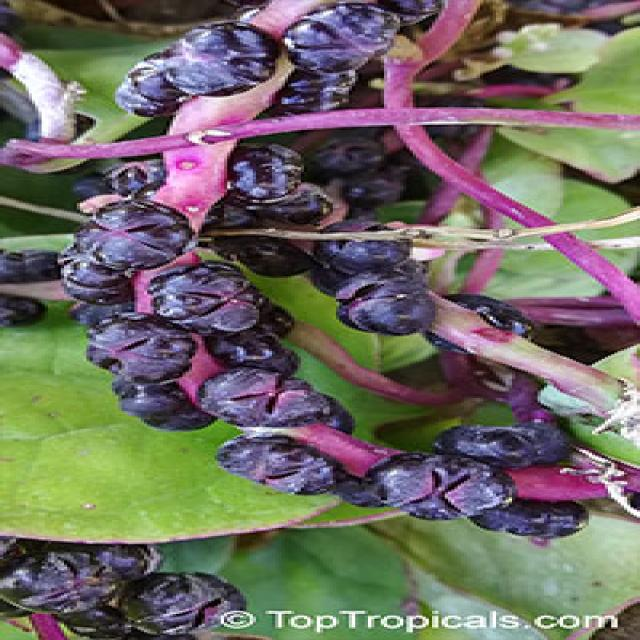Medicinal-Basale: (81, 11, 637, 550)
